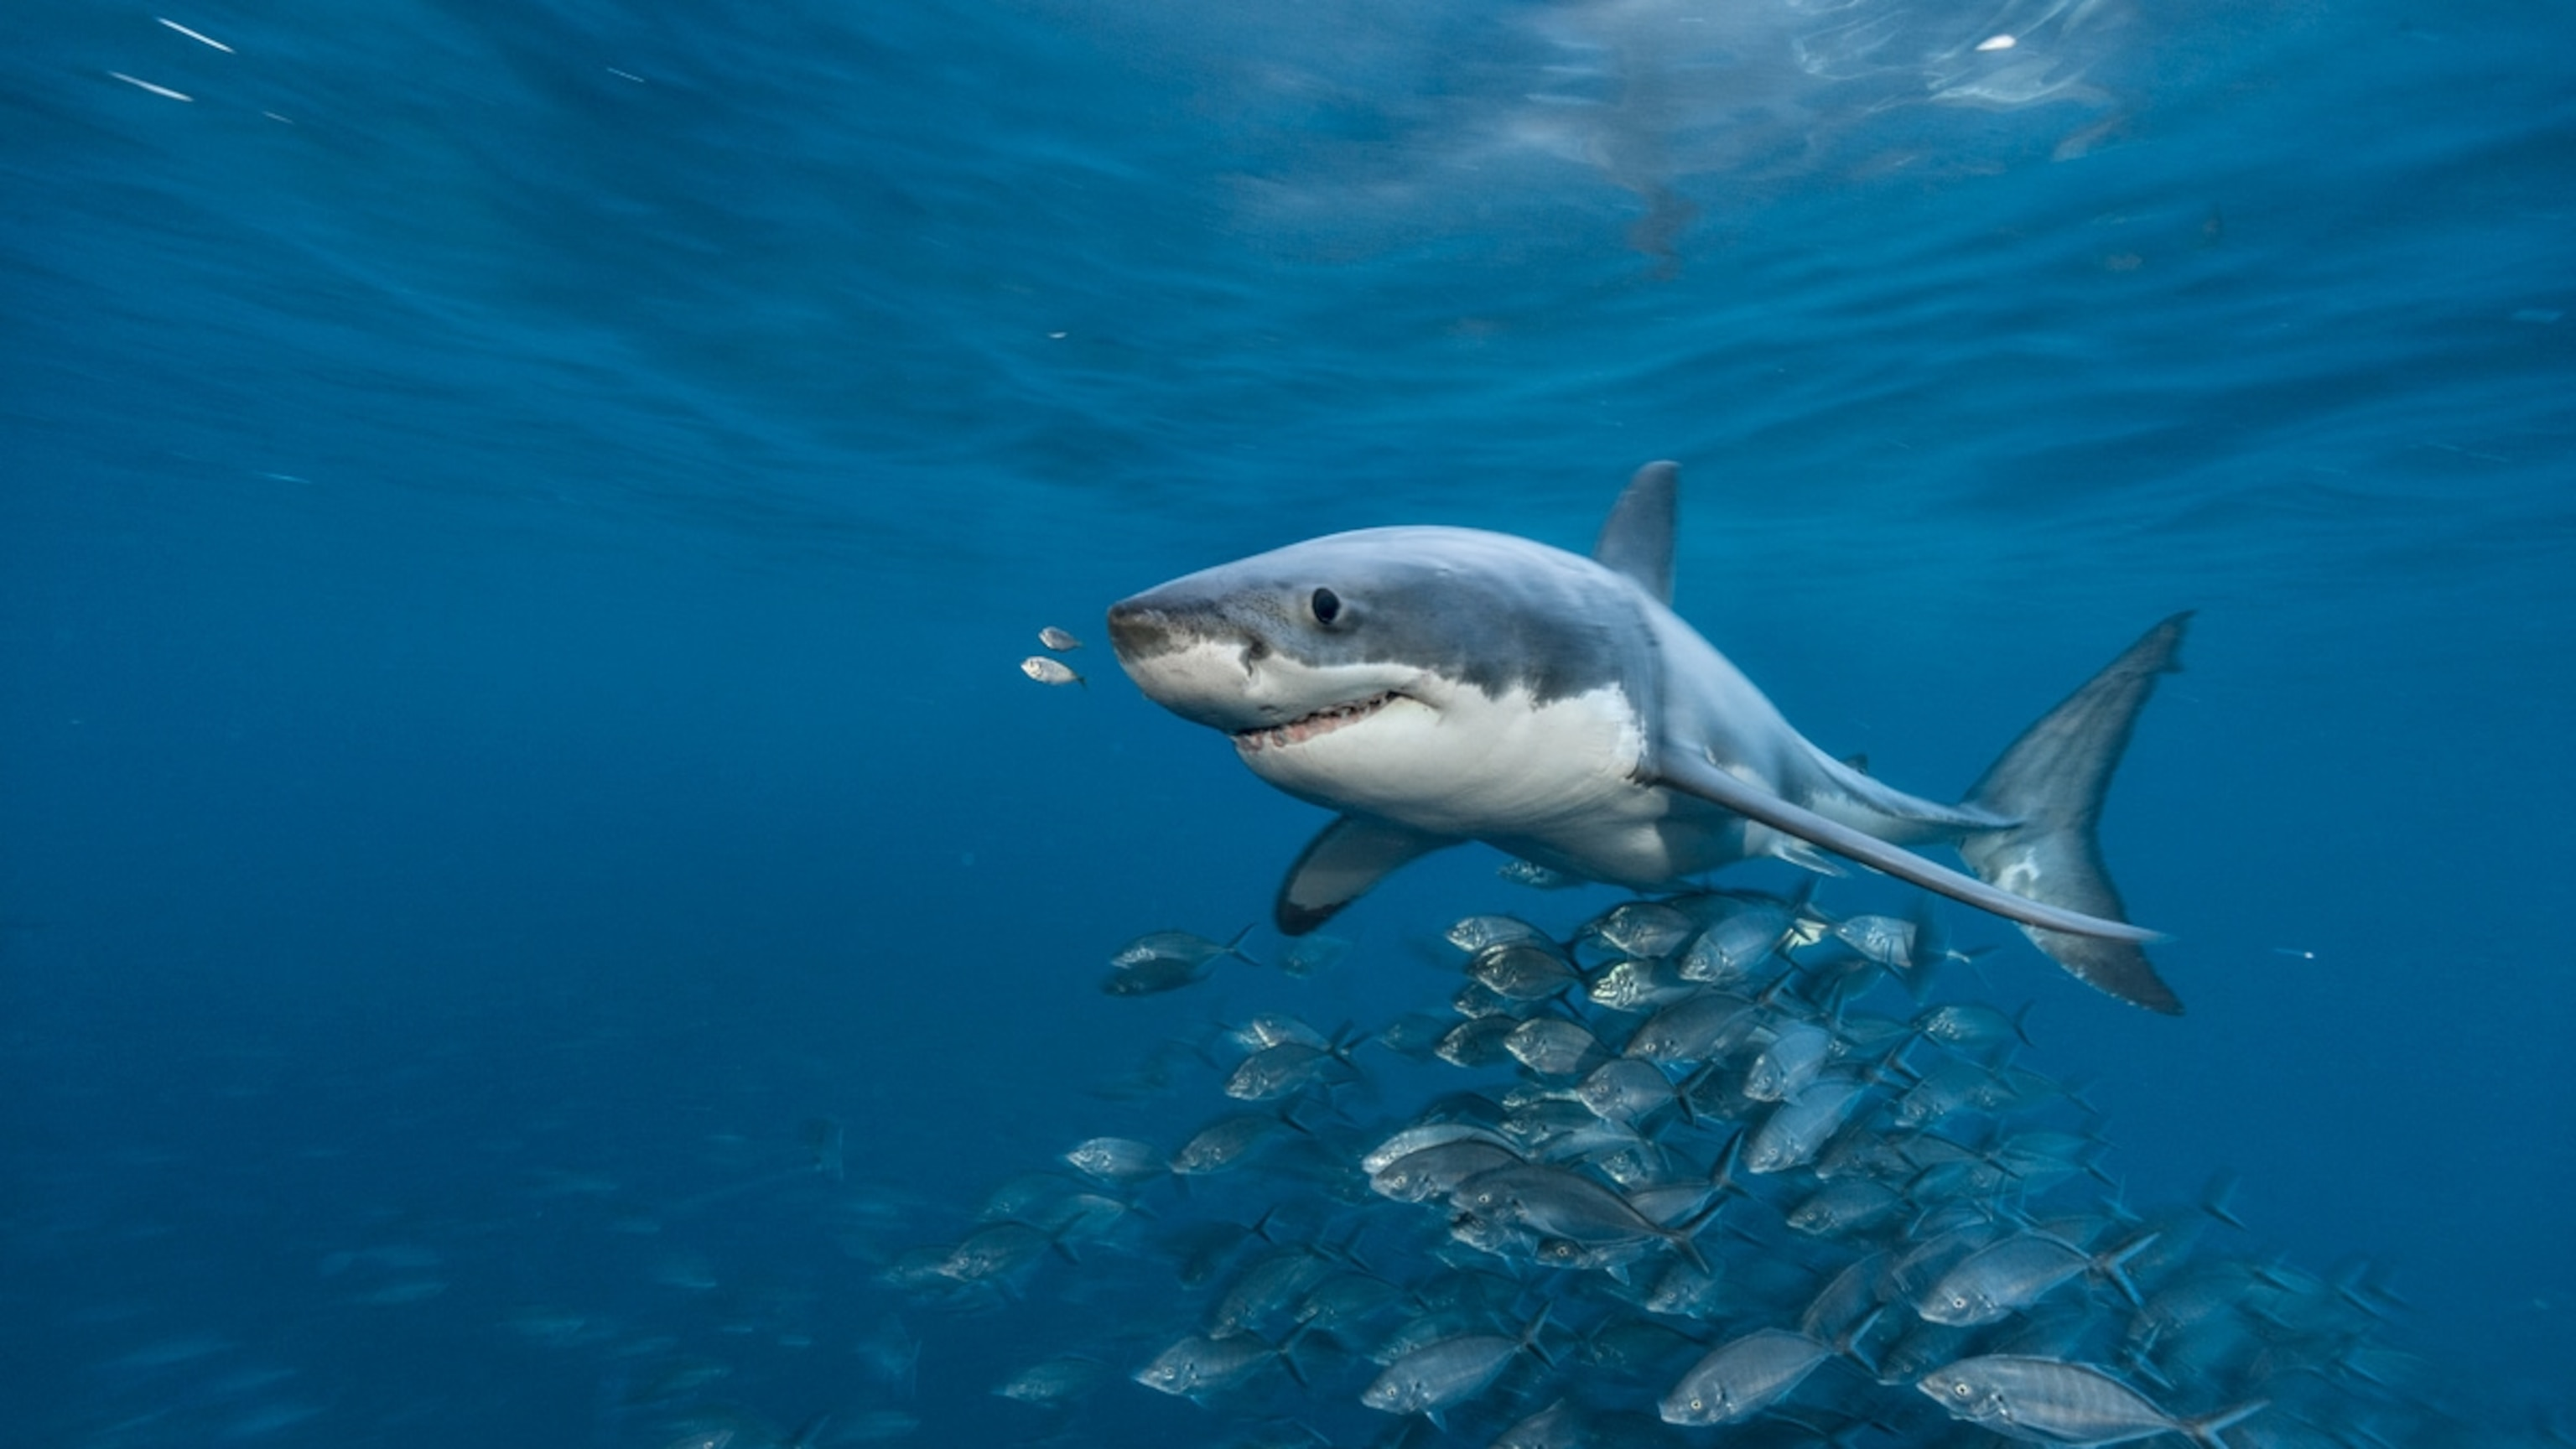Shark: (1111, 462, 2194, 1019)
